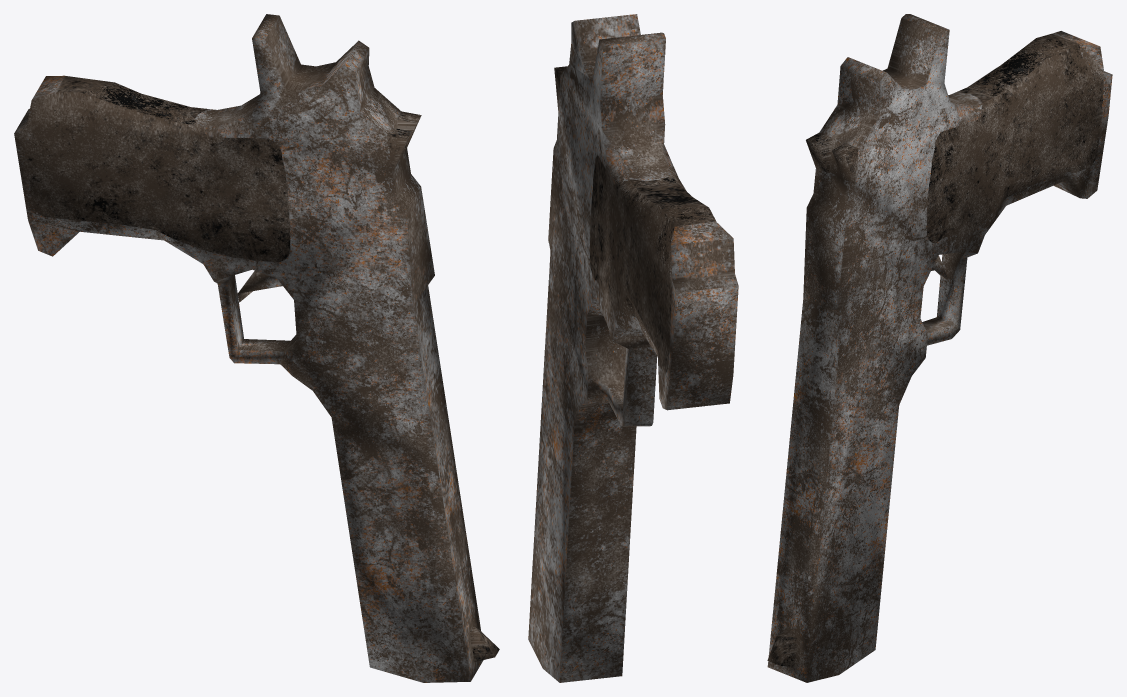
Rendered from Anim_idle_pistola_objetos.0035.obj.
3 renders of one model, left to right at view 1: azimuth 30°, elevation 25°; view 2: azimuth 150°, elevation 25°; view 3: azimuth 270°, elevation 25°, orthographic. The views are drawn at different scales.
Visible parts, largest first — view 1: Pistola1; view 2: Pistola1; view 3: Pistola1.
Boxes of the visible parts, x1,y1,x2,y2 form: Pistola1: (14,14,499,682); Pistola1: (528,14,738,682); Pistola1: (767,14,1112,682).
Bounding box in the file's own units: 0.9129 × 1.67 × 0.8761.
